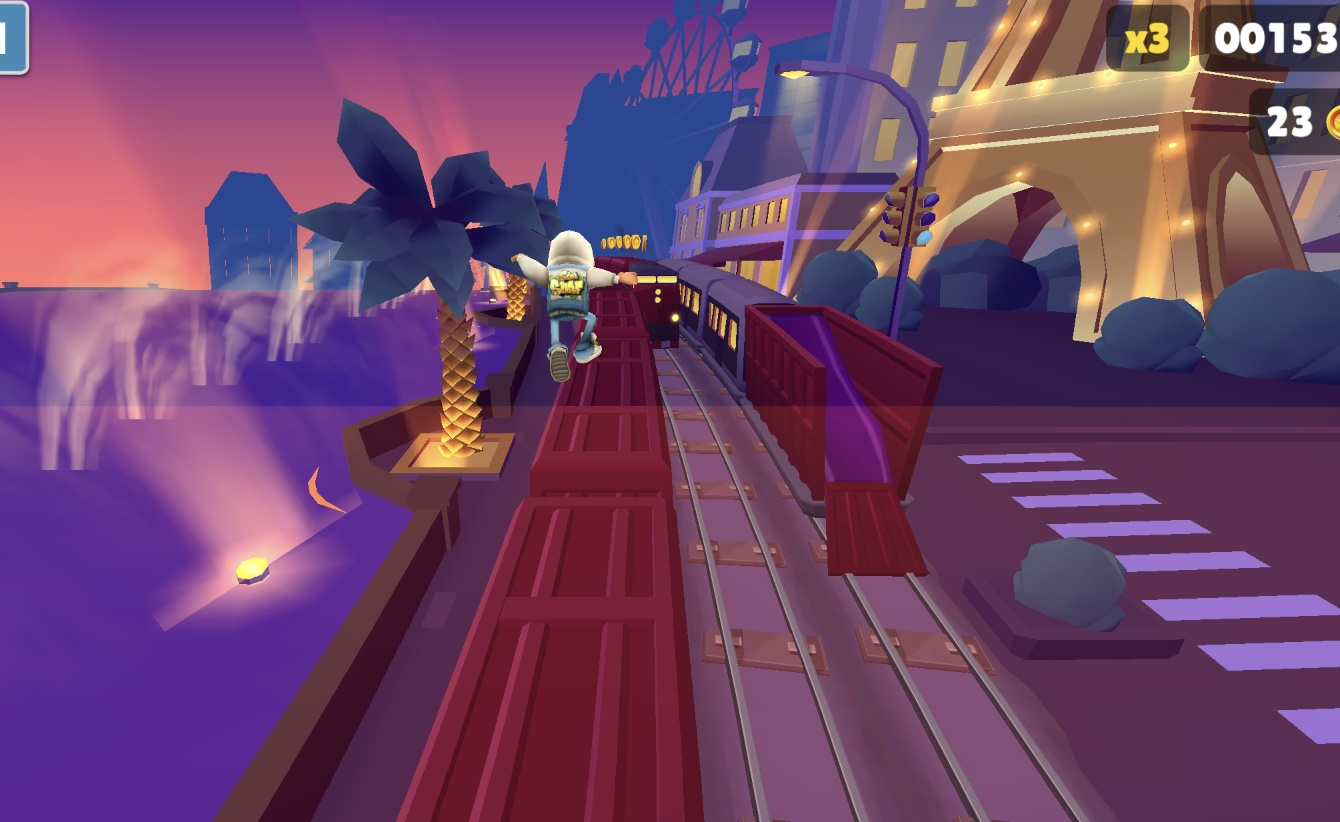train: (424, 272, 698, 822), (744, 290, 950, 580), (654, 260, 812, 403), (591, 260, 688, 352)
